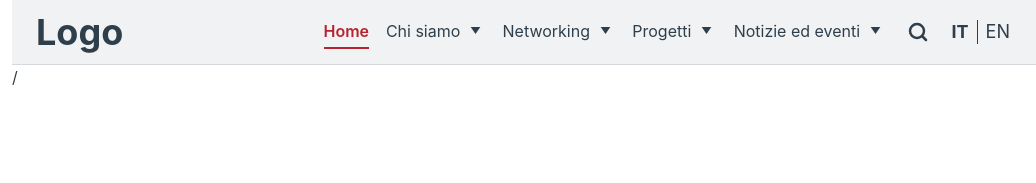
Test: dropdown items scroll targets (it) › /networking › clicking "Studiosi ospiti" navigates to the page with its #hash and closes the dropdown
Click the button named "Sottomenu Networking" at (605, 31), box [595, 19, 615, 43]
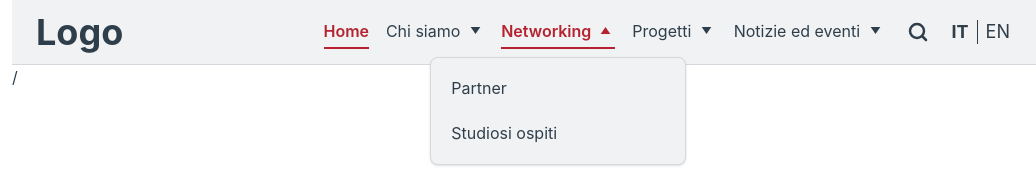
Click the link "Studiosi ospiti" at (504, 133), box [451, 123, 557, 143]
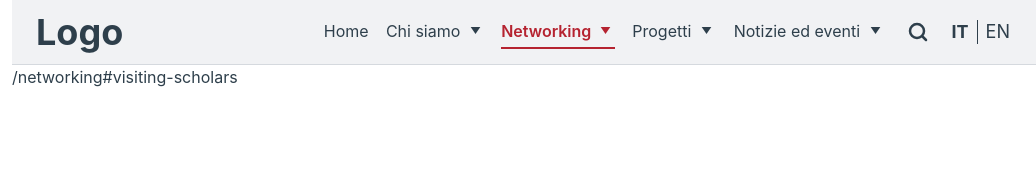
Now the text with test id "location" reads "/networking#visiting-scholars", box [12, 67, 238, 87]
